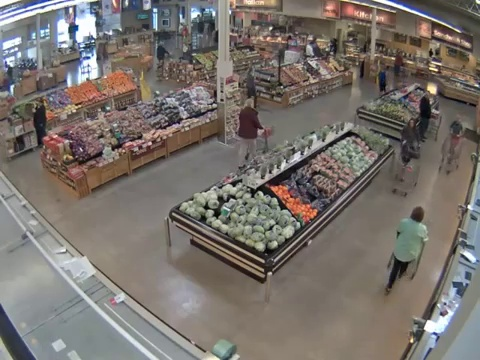face: (409, 119, 415, 128)
